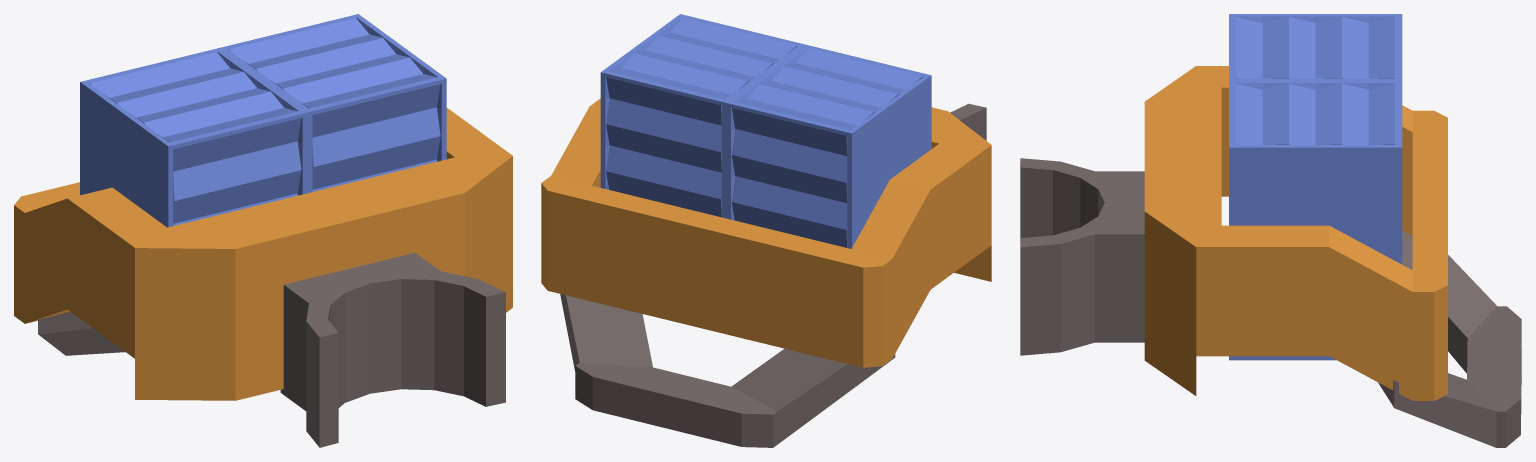
File: StorageLevel2.fbx
3 views of the same model, side by side, from view 1: azimuth 30°, elevation 25°; view 2: azimuth 150°, elevation 25°; view 3: azimuth 270°, elevation 25° (orthographic). The views are drawn at different scales.
Parts seen in each view (by area): view 1: Cylinder.008; view 2: Cylinder.008; view 3: Cylinder.008.
Boxes of the visible parts, x1,y1,x2,y2 form: Cylinder.008: (14,14,512,447); Cylinder.008: (541,14,991,447); Cylinder.008: (1020,14,1521,447).
Bounding box in the file's own units: 709 × 564 × 821.
